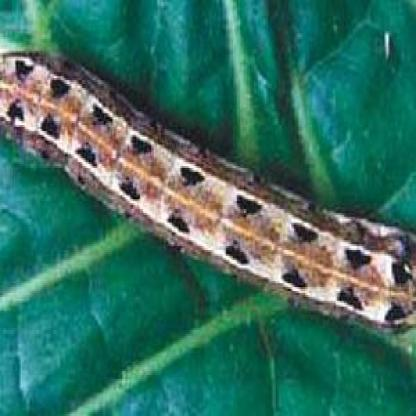armyworm: (0, 31, 416, 349)
